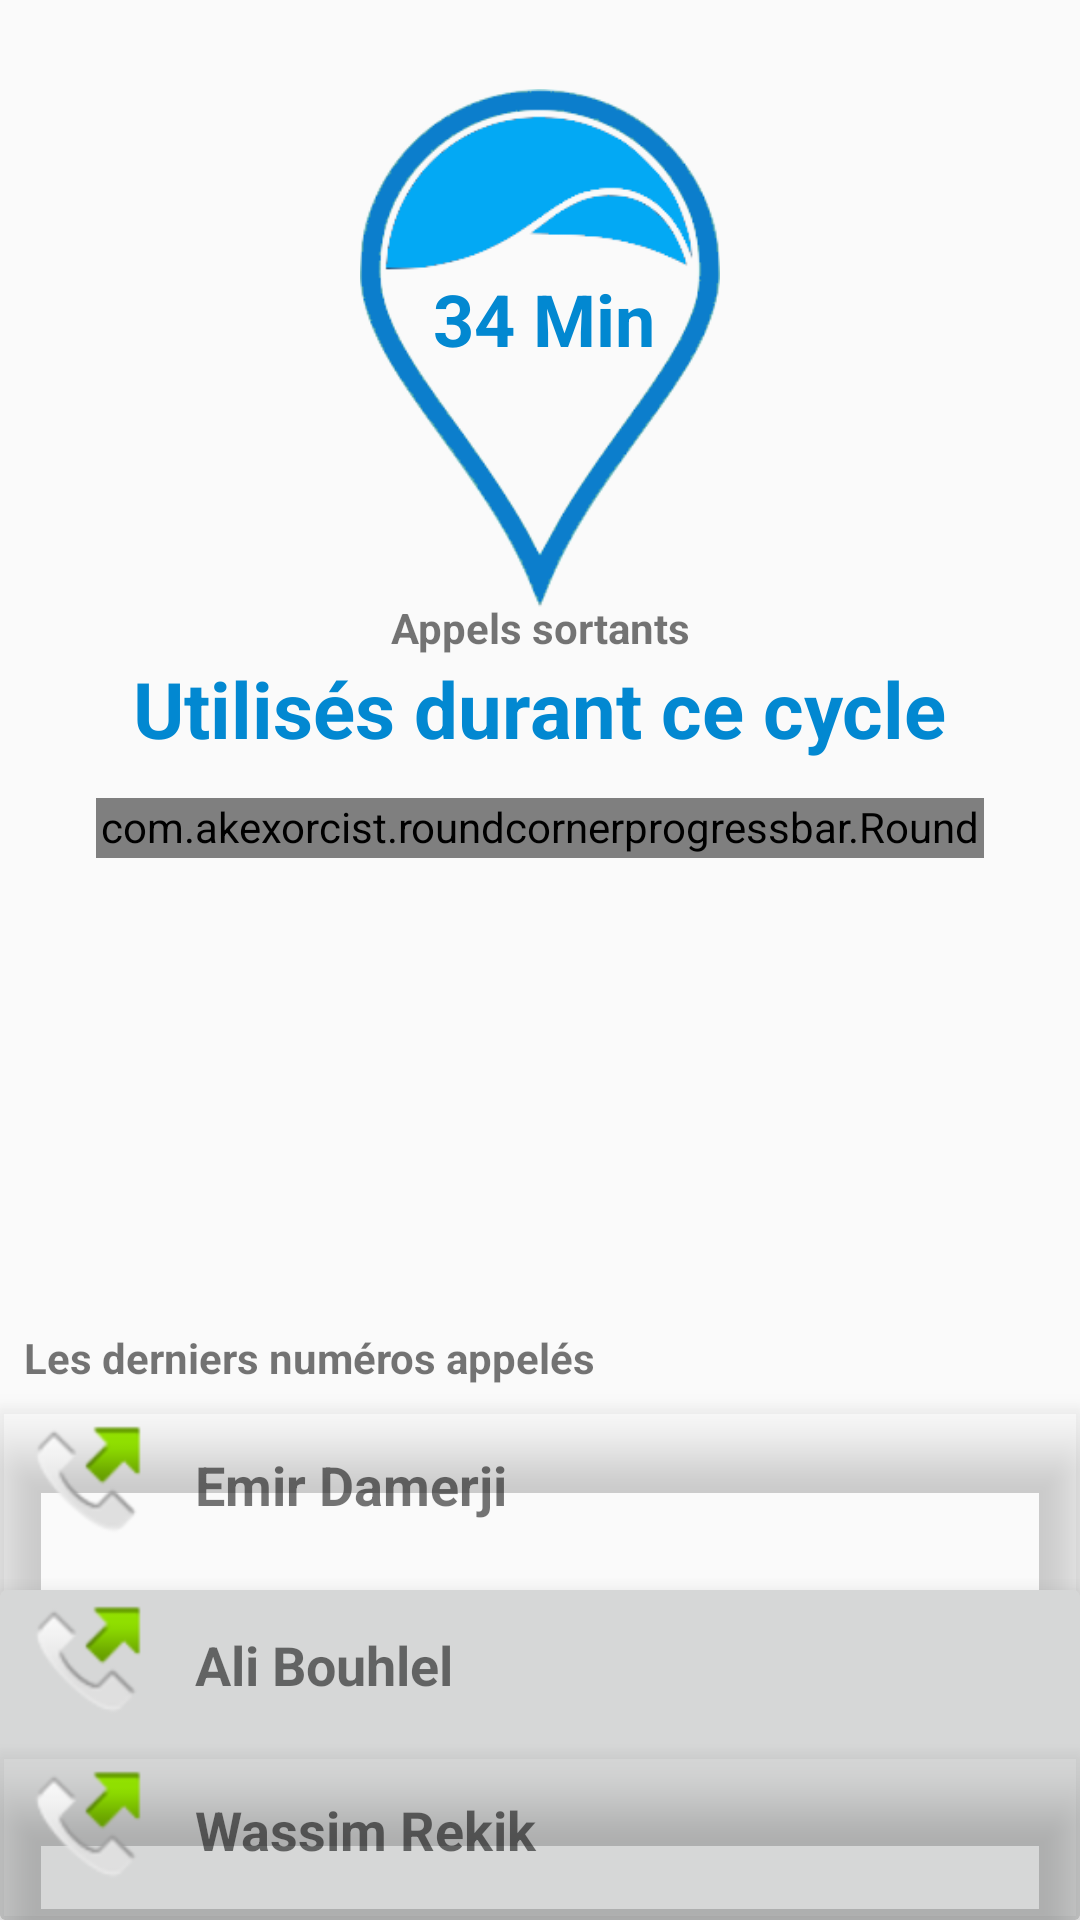

Where icons sit on this 1080px x 1920px app screen, as (x1, y1, x2, y2):
sym call outgoing: (15, 1426, 165, 1545), (39, 1606, 141, 1693), (15, 1771, 165, 1890)
